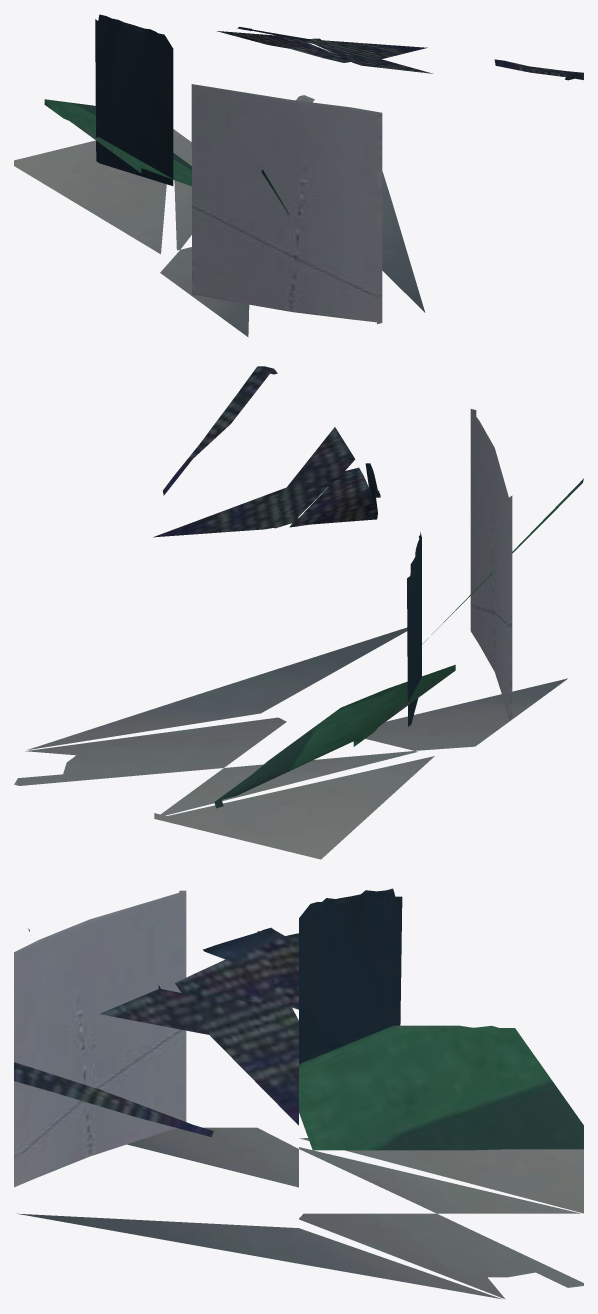
3 views of the same model, one above another, from view 1: azimuth 30°, elevation 25°; view 2: azimuth 150°, elevation 25°; view 3: azimuth 270°, elevation 25° (orthographic). The views are drawn at different scales.
Parts seen in each view (by area): view 1: 30436272704370436420_1; view 2: 30436272704370436420_1; view 3: 30436272704370436420_1.
Boxes of the visible parts, <box> form: 30436272704370436420_1: <box>14,14,583,336</box>; 30436272704370436420_1: <box>14,366,583,859</box>; 30436272704370436420_1: <box>14,888,583,1299</box>.
Bounding box in the file's own units: 27.32 × 18.19 × 38.26.
Materials: 1 (1 with a texture image).
